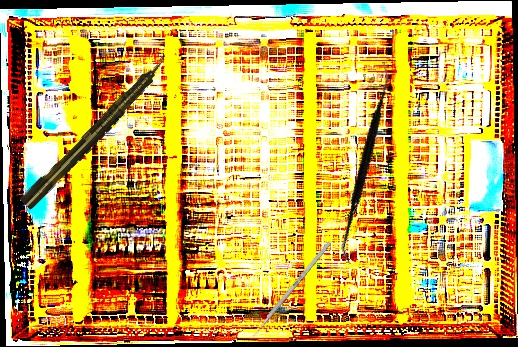Handpiece: (18, 52, 173, 212)
Pusher: (244, 240, 332, 347)
Spatula Surgical: (288, 60, 446, 266)
